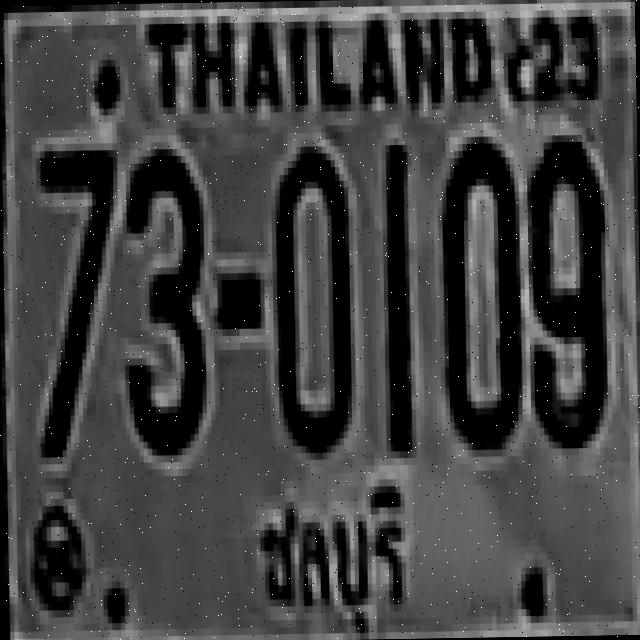0: (436, 136, 518, 442), (270, 138, 348, 446)
1: (378, 141, 409, 447)
3: (120, 142, 202, 448)
7: (36, 143, 118, 450), (36, 143, 116, 360)
9: (522, 131, 604, 438)
Chonburi: (248, 474, 417, 640)
